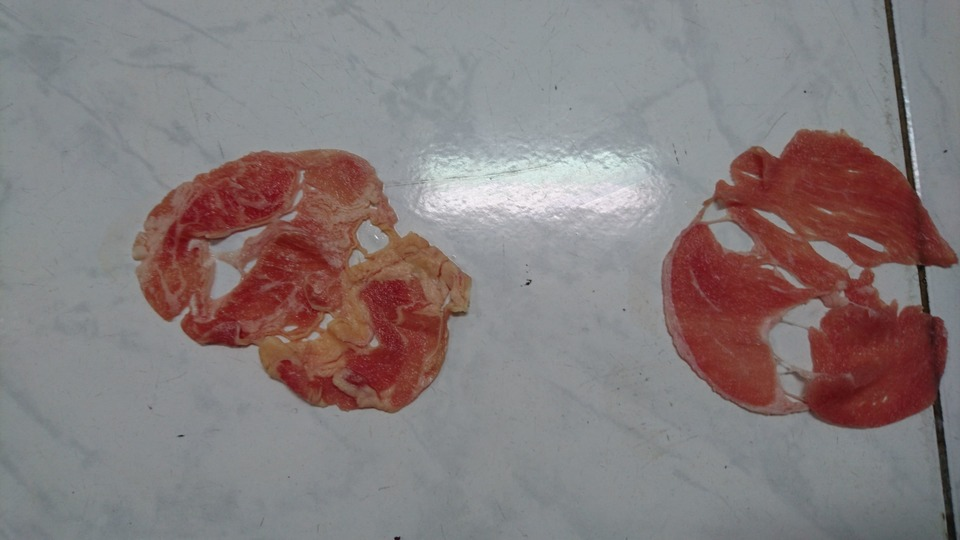restructured meat: (104, 153, 481, 417), (650, 129, 947, 419)
